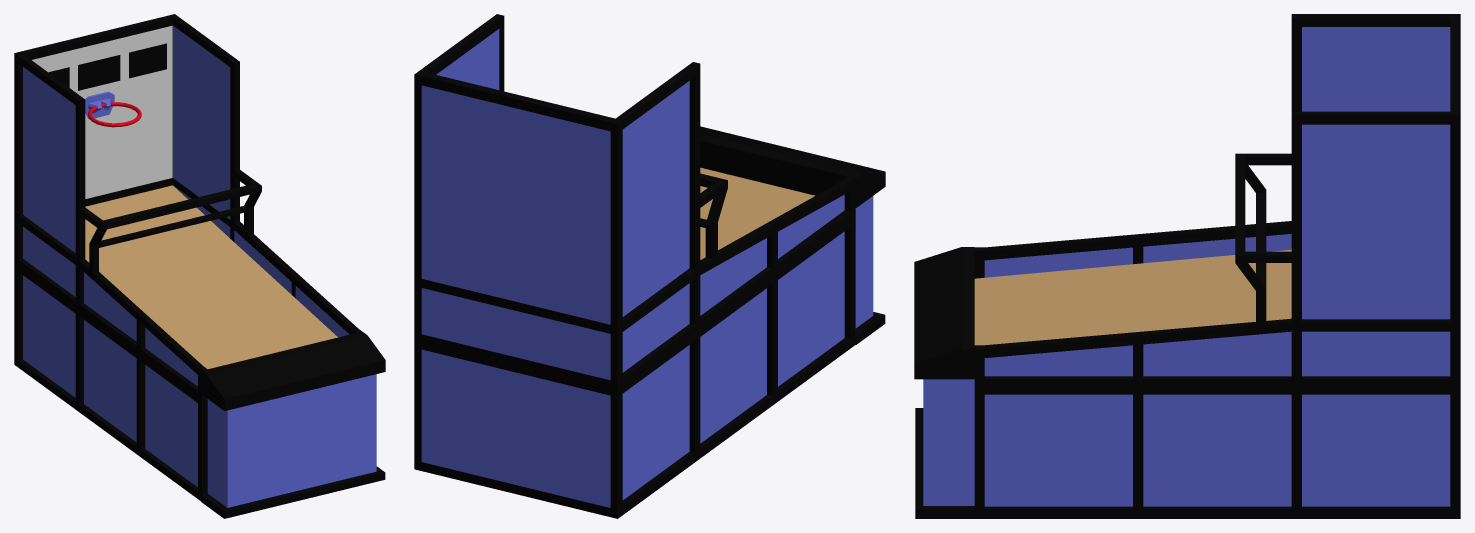
Rendered from B-Ball_MiniGame.fbx.
The picture shows the model from 3 angles, left to right: view 1: azimuth 30°, elevation 25°; view 2: azimuth 150°, elevation 25°; view 3: azimuth 270°, elevation 25°; orthographic projection. The views are drawn at different scales.
Parts seen in each view (by area): view 1: B-Ball; view 2: B-Ball; view 3: B-Ball.
Part boxes in pixels (x1,y1,x2,y2): B-Ball: [14, 14, 385, 518]; B-Ball: [414, 14, 885, 518]; B-Ball: [914, 14, 1460, 518].
Size of the model in its own units: 140 by 260 by 319.
